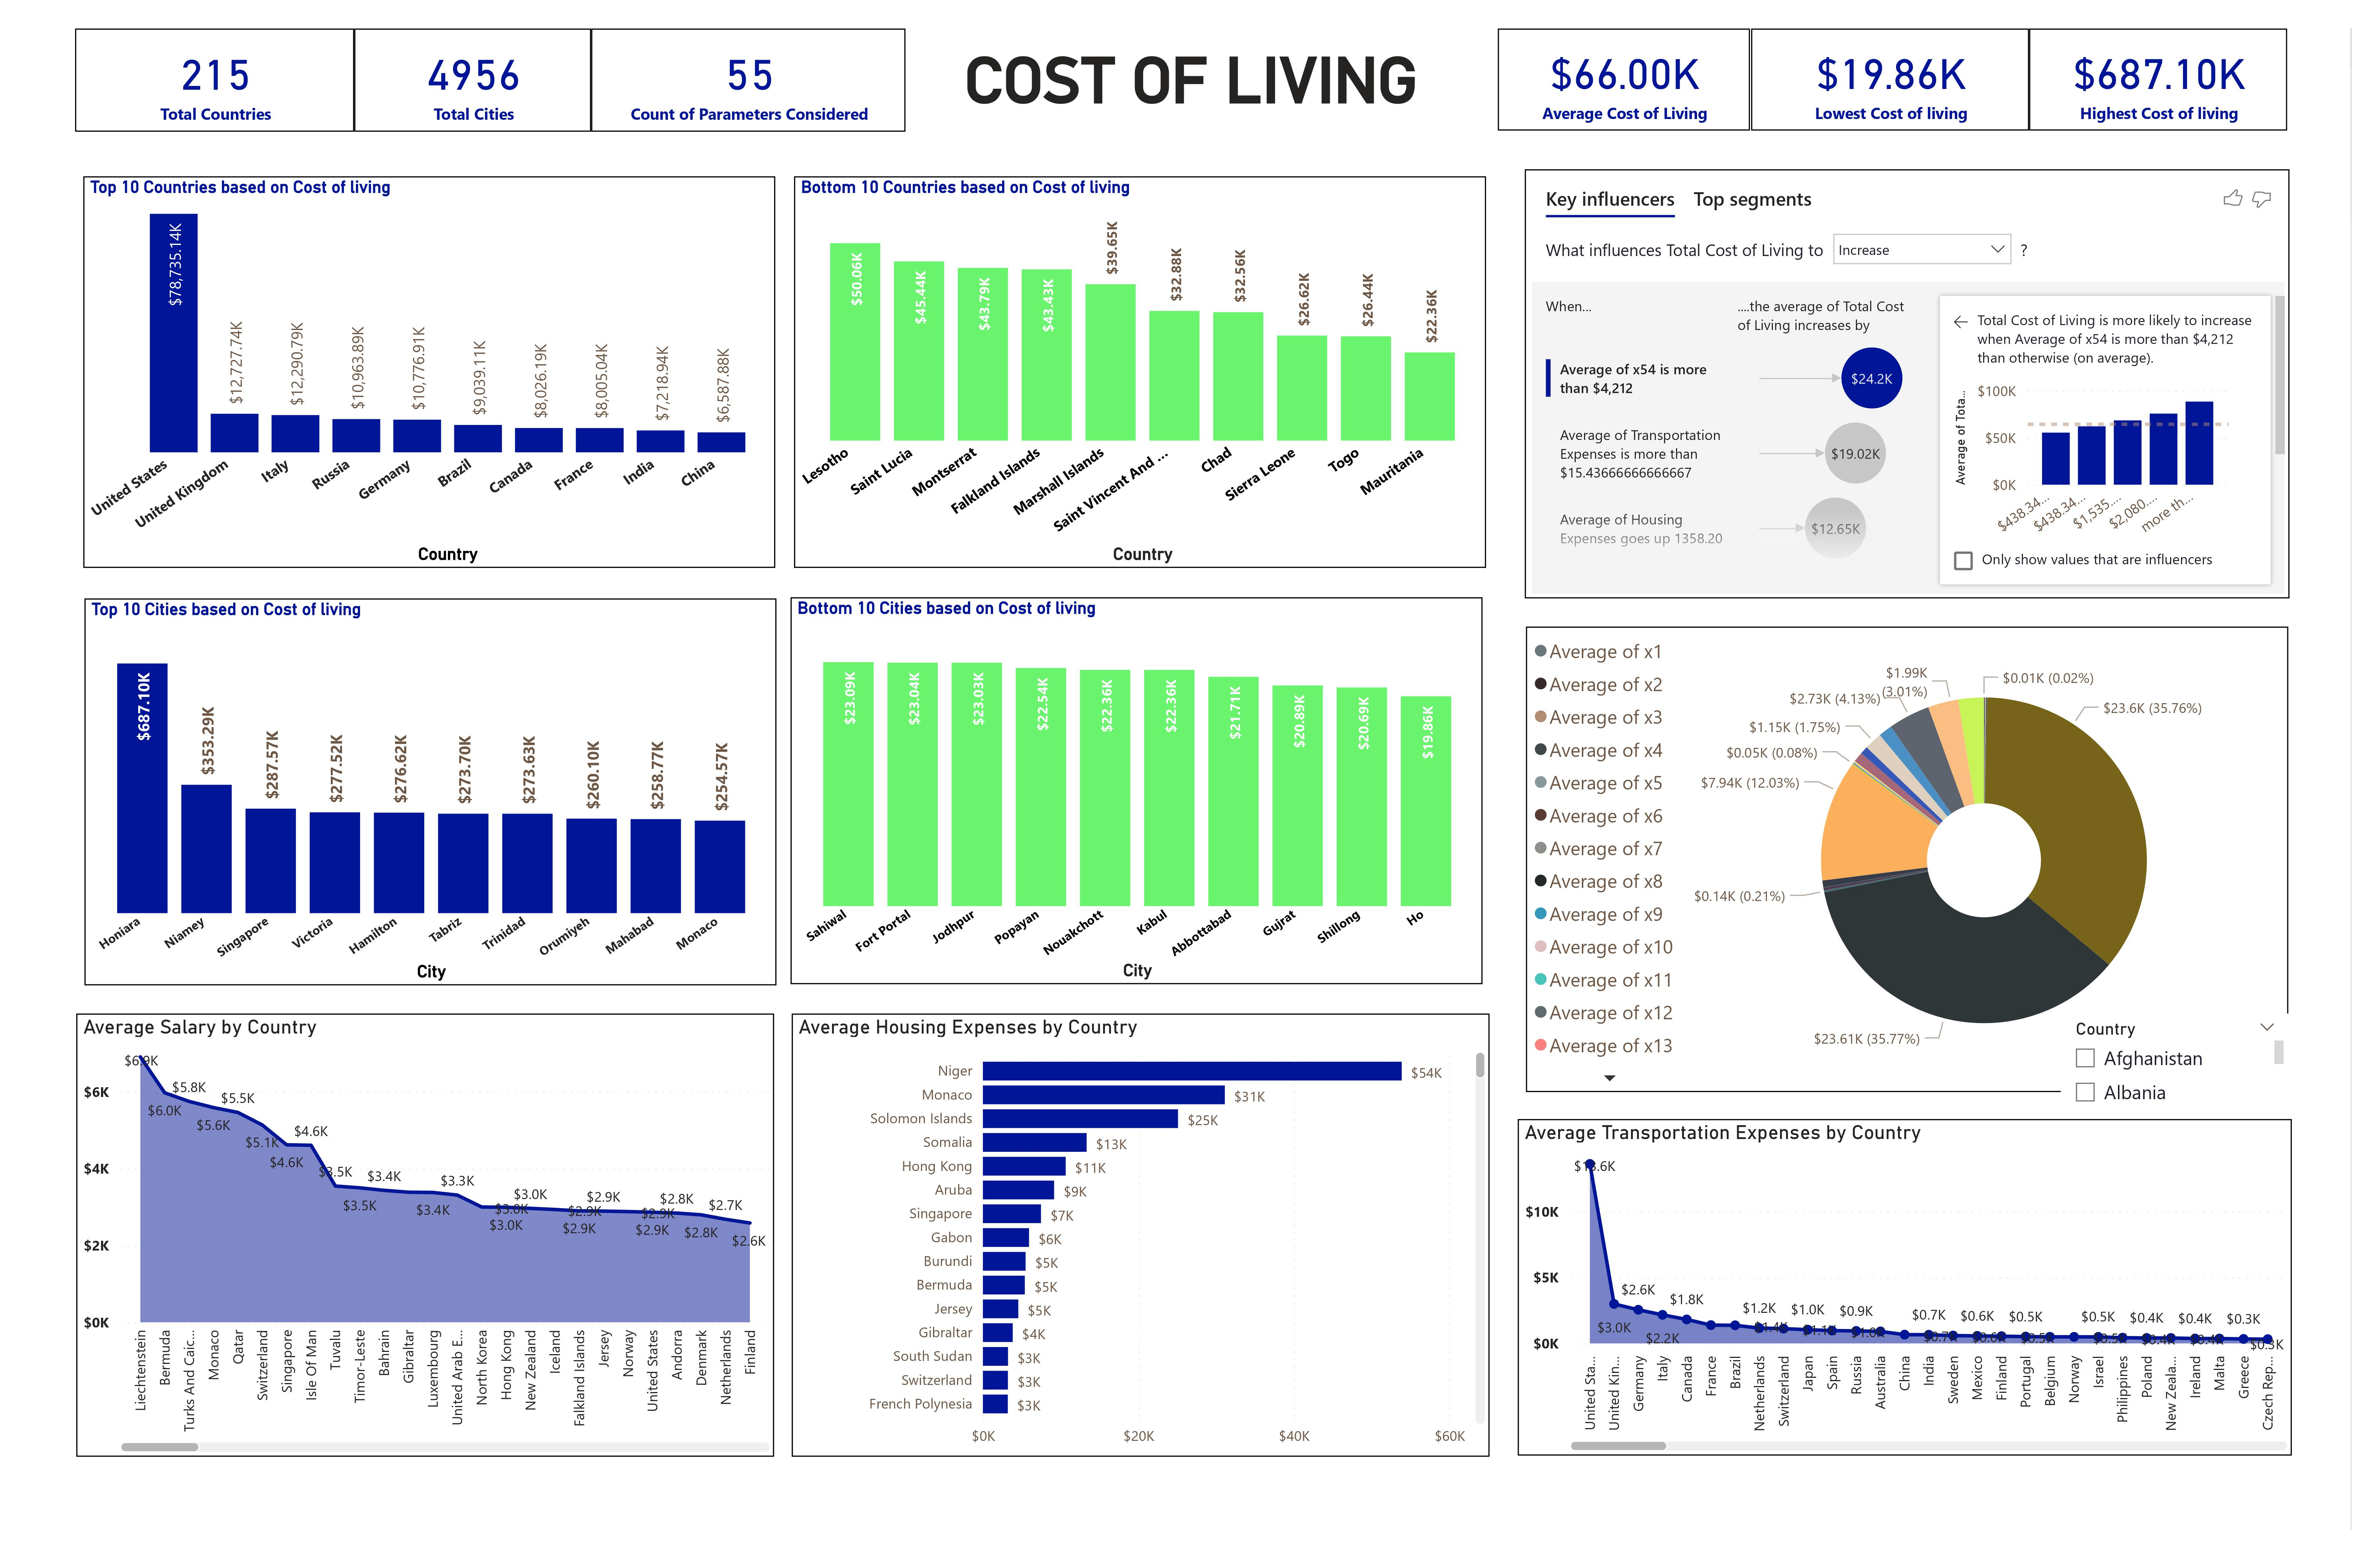

This screenshot's page, from the dashboard's own definition file:
{"tool":"powerbi","page":{"name":"Page 1","canvas":[1980,1280],"ordinal":0},"visuals":[{"type":"textbox","title":"COST OF LIVING","box":[510,12.5,962.5,75],"z":0},{"type":"card","fields":{"Values":["Parameter.Count of Country total for Country"]},"box":[40,0,237.5,87.5],"z":1000},{"type":"card","fields":{"Values":["Parameter.Total Cities"]},"box":[277.5,0,202.5,87.5],"z":2000},{"type":"card","fields":{"Values":["Parameter.Parameter"]},"box":[480,0,267.5,87.5],"z":3000},{"type":"card","fields":{"Values":["Parameter.Average Cost of Living"]},"box":[1253.3,0,215,86.7],"z":4000},{"type":"card","fields":{"Values":["Parameter.Highest Cost of living"]},"box":[1705.7,0,220,87.1],"z":5000},{"type":"clusteredColumnChart","title":"Top 10 Cities based on Cost of living","fields":{"Category":["cost-of-living_v2.City"],"Y":["cost-of-living_v2.Total Cost of Living"]},"box":[47.6,485.6,590,330],"z":6000},{"type":"clusteredColumnChart","title":"Bottom 10 Cities based on Cost of living","fields":{"Category":["cost-of-living_v2.City"],"Y":["cost-of-living_v2.Total Cost of Living"]},"box":[650.4,484.6,590,330],"z":7000},{"type":"clusteredColumnChart","title":"Bottom 10 Countries based on Cost of living","fields":{"Category":["cost-of-living_v2.Country"],"Y":["cost-of-living_v2.Total Cost of Living"]},"box":[653,126.2,590,333.3],"z":8000},{"type":"clusteredColumnChart","title":"Top 10 Countries based on Cost of living","fields":{"Category":["cost-of-living_v2.Country"],"Y":["cost-of-living_v2.Total Cost of Living"]},"box":[46.9,126.2,590,333.3],"z":9000},{"type":"keyDriversVisual","fields":{"Target":["cost-of-living_v2.Total Cost of Living"],"ExplainBy":["cost-of-living_v2.x54","cost-of-living_v2.Average Housing Expenses","cost-of-living_v2.Average Transportation Expenses"]},"box":[1276,120,652,366],"z":10000},{"type":"areaChart","title":"Average Transportation Expenses by Country","fields":{"Category":["cost-of-living_v2.Country"],"Y":["cost-of-living_v2.Average Transportation Expenses"]},"box":[1270,930,660,286.7],"z":11000},{"type":"clusteredBarChart","title":"Average Housing Expenses by Country","fields":{"Category":["cost-of-living_v2.Country"],"Y":["cost-of-living_v2.Average Housing Expenses"]},"box":[651.4,840.1,595,377.5],"z":12000},{"type":"areaChart","title":"Average Salary by Country","fields":{"Category":["cost-of-living_v2.Country"],"Y":["cost-of-living_v2.x54"]},"box":[41.1,840.1,595,377.5],"z":13000},{"type":"card","fields":{"Values":["Parameter.Lowest Cost of living"]},"box":[1468.6,0,237.1,87.1],"z":14000},{"type":"donutChart","fields":{"Y":["cost-of-living_v2.x1","cost-of-living_v2.x2","cost-of-living_v2.x3","cost-of-living_v2.x4","cost-of-living_v2.x5","cost-of-living_v2.x6","cost-of-living_v2.x7","cost-of-living_v2.x8","cost-of-living_v2.x9","cost-of-living_v2.x10","cost-of-living_v2.x11","cost-of-living_v2.x12"]},"box":[1276.7,510,650,396.7],"z":15000},{"type":"slicer","fields":{"Values":["cost-of-living_v2.Country"]},"box":[1733.3,840,195,83.3],"z":16000}]}

Visuals, with their boxes on the page's 1980x1280 design canvas (x1, y1, x2, y2). These are canvas units, not pixel positions in the 2380x1558 screenshot, which may show the page scaled, cropped or inside an application window:
"COST OF LIVING" textbox: select_region(510, 12, 1472, 88)
card - Parameter.Count of Country total for Country: select_region(40, 0, 278, 88)
card - Parameter.Total Cities: select_region(278, 0, 480, 88)
card - Parameter.Parameter: select_region(480, 0, 748, 88)
card - Parameter.Average Cost of Living: select_region(1253, 0, 1468, 87)
card - Parameter.Highest Cost of living: select_region(1706, 0, 1926, 87)
"Top 10 Cities based on Cost of living" clusteredColumnChart: select_region(48, 486, 638, 816)
"Bottom 10 Cities based on Cost of living" clusteredColumnChart: select_region(650, 485, 1240, 815)
"Bottom 10 Countries based on Cost of living" clusteredColumnChart: select_region(653, 126, 1243, 460)
"Top 10 Countries based on Cost of living" clusteredColumnChart: select_region(47, 126, 637, 460)
keyDriversVisual - cost-of-living_v2.Total Cost of Living x cost-of-living_v2.x54: select_region(1276, 120, 1928, 486)
"Average Transportation Expenses by Country" areaChart: select_region(1270, 930, 1930, 1217)
"Average Housing Expenses by Country" clusteredBarChart: select_region(651, 840, 1246, 1218)
"Average Salary by Country" areaChart: select_region(41, 840, 636, 1218)
card - Parameter.Lowest Cost of living: select_region(1469, 0, 1706, 87)
donutChart - cost-of-living_v2.x1 x cost-of-living_v2.x2: select_region(1277, 510, 1927, 907)
slicer - cost-of-living_v2.Country: select_region(1733, 840, 1928, 923)
